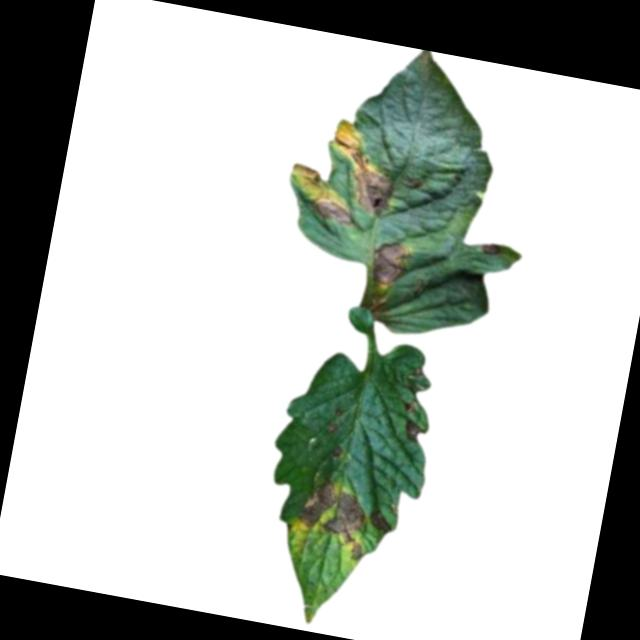Early_blight: (320, 115, 407, 219), (290, 474, 376, 563), (367, 236, 412, 288), (288, 160, 339, 199), (313, 194, 353, 223), (366, 506, 395, 536), (402, 417, 424, 443), (481, 239, 507, 257), (323, 419, 341, 437), (329, 443, 346, 460)
